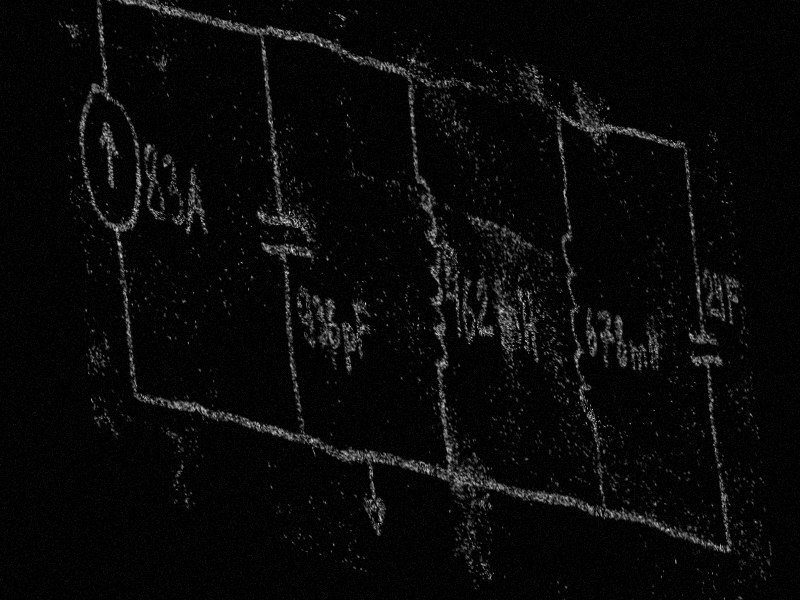2: (471, 271, 497, 345), (700, 264, 717, 321)
3: (159, 150, 188, 232), (310, 289, 331, 353)
4: (440, 257, 465, 343)
6: (455, 268, 481, 351), (582, 303, 600, 363)
7: (593, 303, 619, 376)
8: (139, 137, 169, 228), (322, 290, 344, 355), (611, 310, 630, 374)
9: (291, 278, 319, 355), (711, 269, 727, 325)
A: (178, 156, 212, 243)
F: (350, 296, 375, 366), (722, 270, 744, 332)
H: (516, 286, 542, 367), (643, 315, 662, 376)
m: (493, 298, 524, 355), (626, 335, 650, 380)
p: (338, 318, 362, 383)
